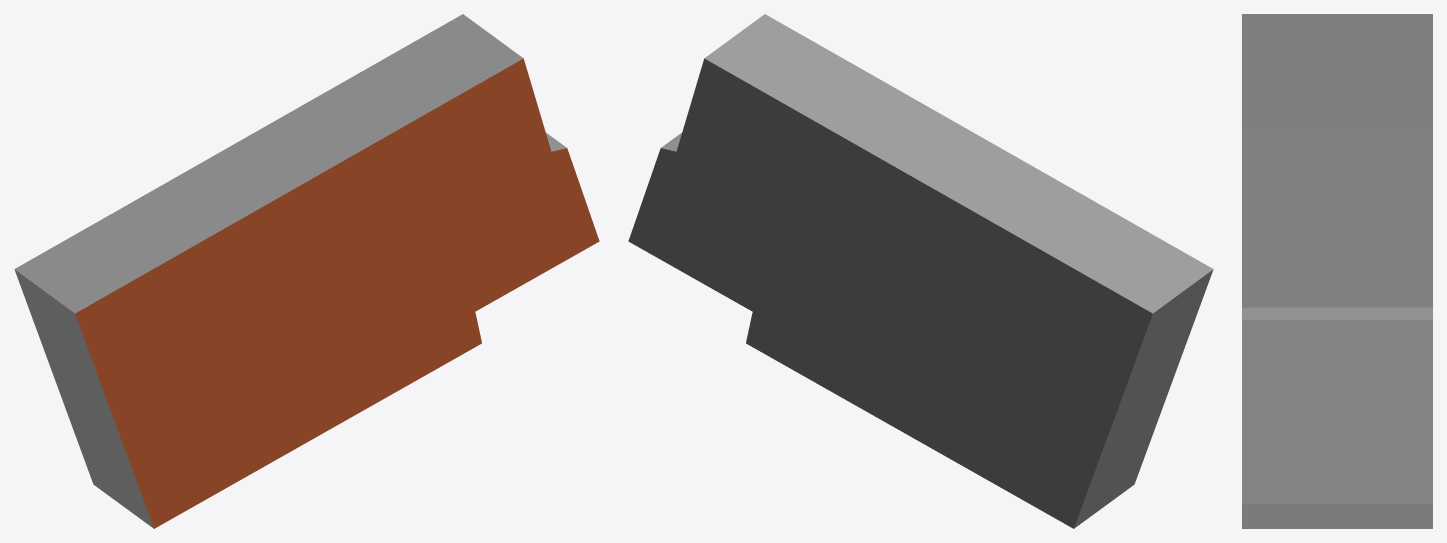
Rendered from construction_4574_assumed_A_Igreja_matriz_h6m.obj.
3 views of the same model, side by side, from view 1: azimuth 30°, elevation 25°; view 2: azimuth 150°, elevation 25°; view 3: azimuth 270°, elevation 25° (orthographic). The views are drawn at different scales.
Parts seen in each view (by area): view 1: construction_4574_assumed_A_Igreja_matriz; view 2: construction_4574_assumed_A_Igreja_matriz; view 3: construction_4574_assumed_A_Igreja_matriz.
Boxes of the visible parts, x1,y1,x2,y2 form: construction_4574_assumed_A_Igreja_matriz: (14, 14, 599, 528); construction_4574_assumed_A_Igreja_matriz: (628, 14, 1213, 528); construction_4574_assumed_A_Igreja_matriz: (1242, 14, 1432, 528).
Size of the model in its own units: 29.93 by 20.74 by 6.
